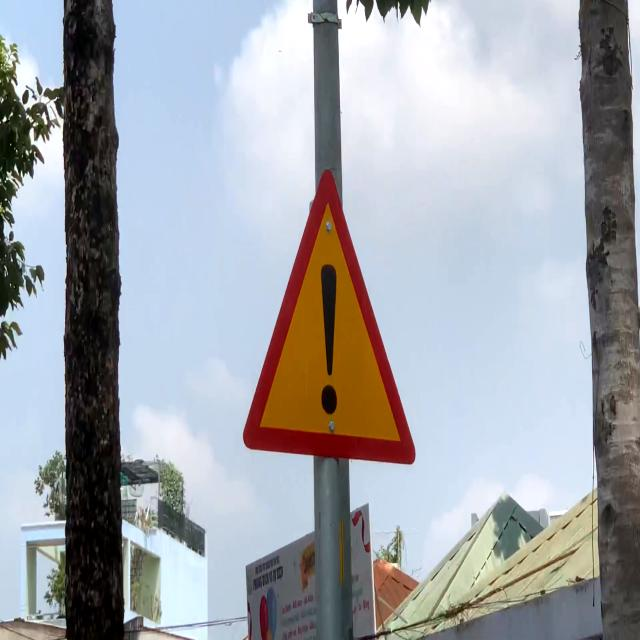W.233: (239, 164, 420, 472)
